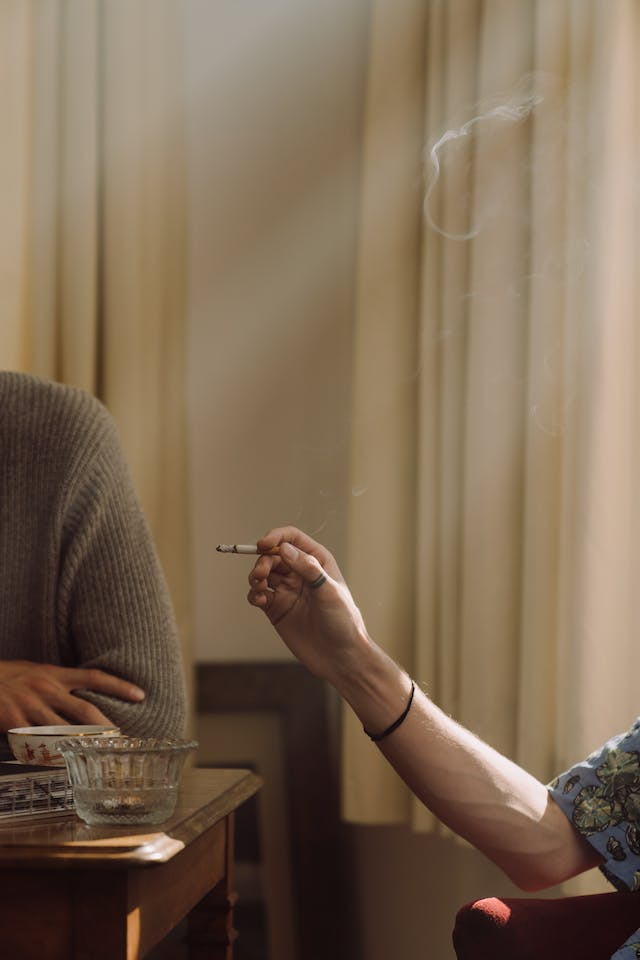Cigarette: (215, 541, 303, 559)
